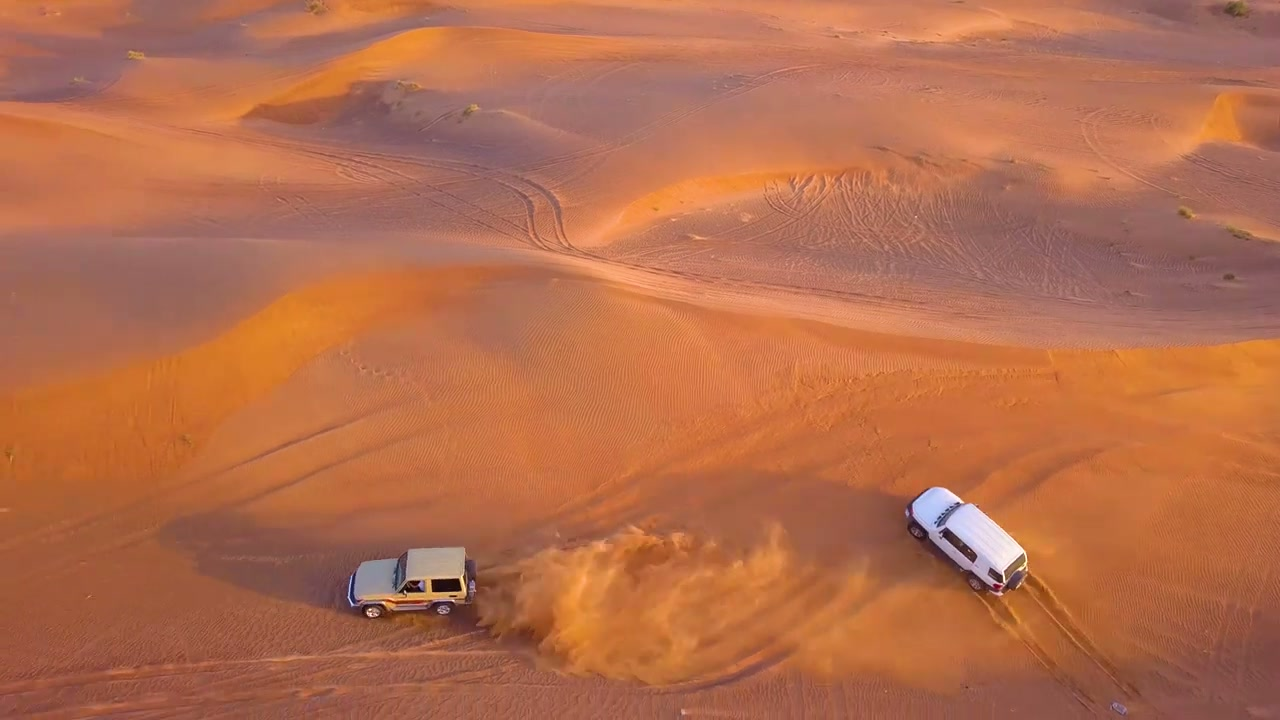vehicle_track: (148, 122, 935, 315), (167, 126, 928, 309), (0, 399, 410, 551), (170, 127, 575, 253), (507, 63, 830, 172), (0, 642, 512, 695), (982, 576, 1142, 712), (1026, 575, 1141, 698), (982, 597, 1094, 712), (1078, 107, 1181, 197), (1181, 152, 1279, 224)
